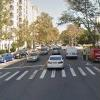Crosswalk: (2, 63, 99, 91)
